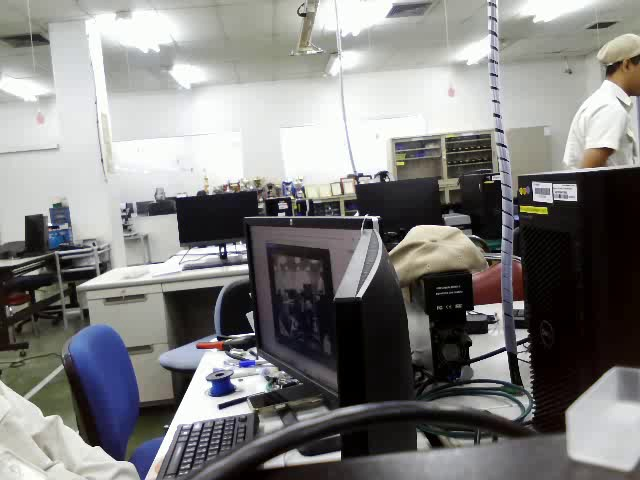aaa: (52, 316, 144, 460)
